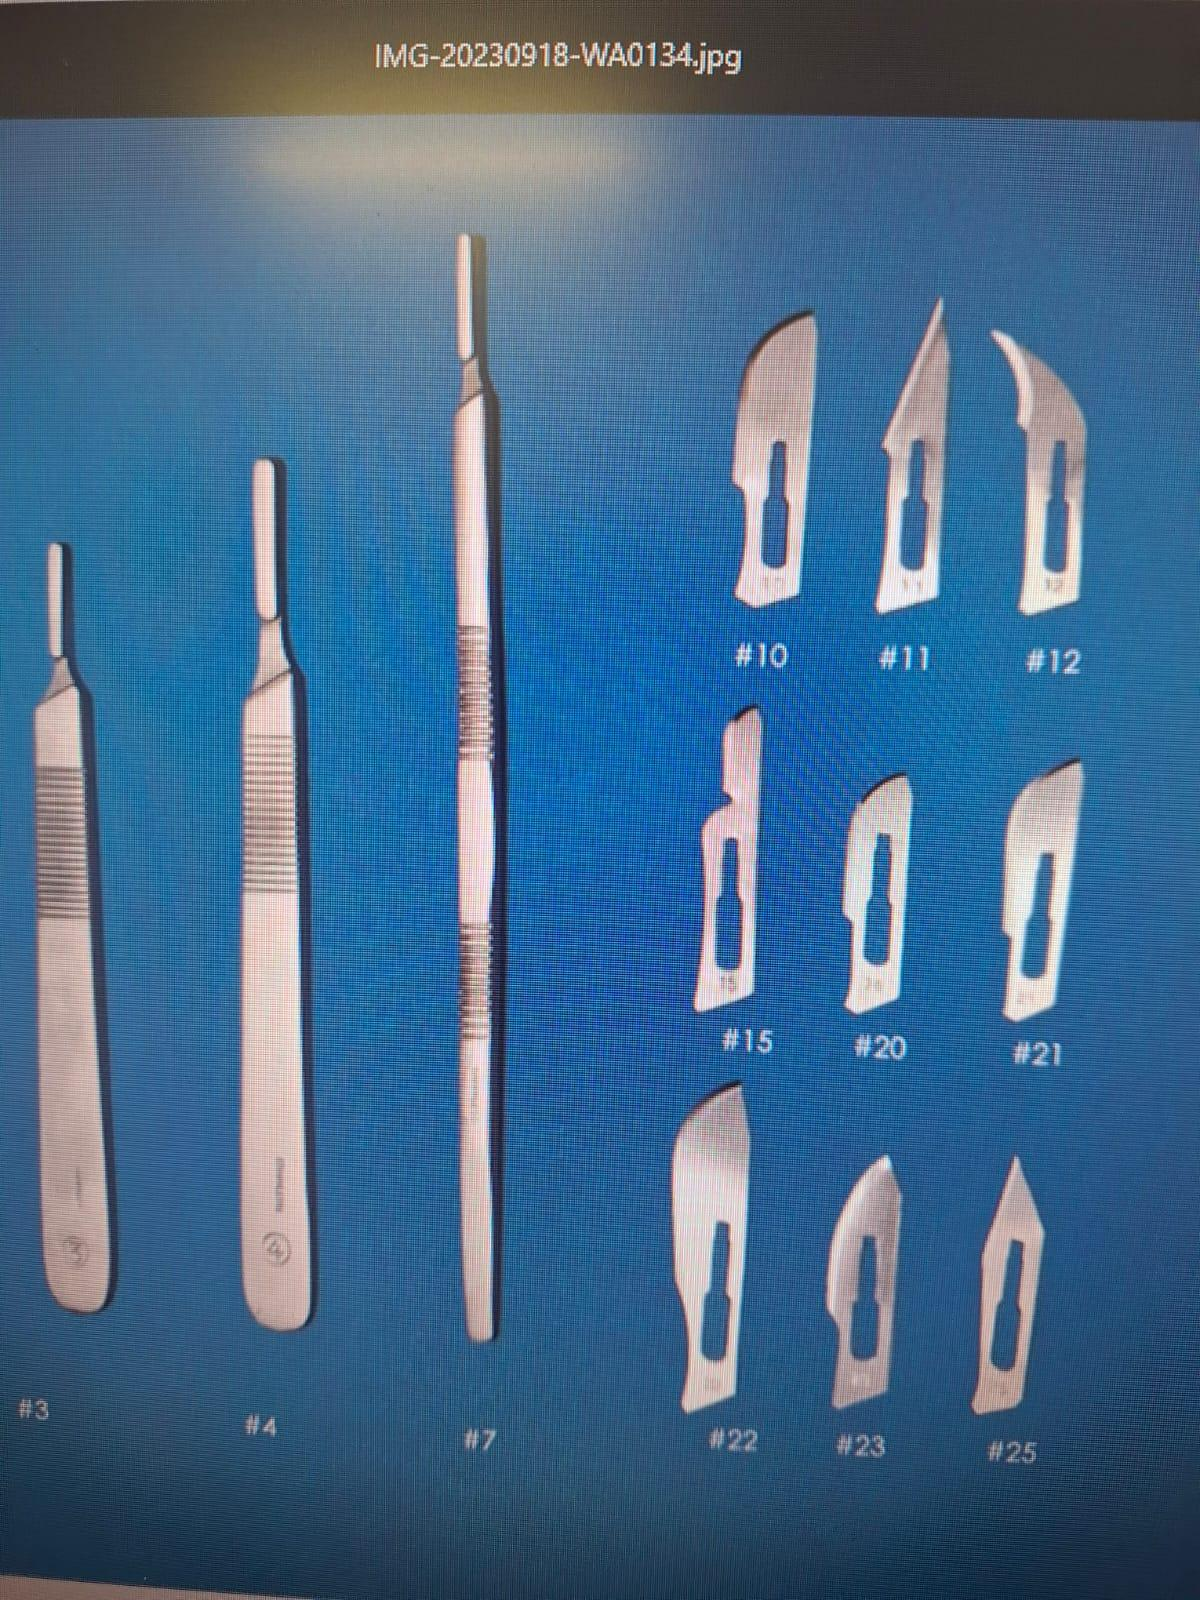Knife Blade: (687, 290, 845, 622), (979, 317, 1139, 625), (658, 1080, 780, 1427), (989, 742, 1111, 1031), (875, 295, 982, 620), (945, 1145, 1070, 1417), (800, 1140, 915, 1415), (829, 747, 935, 1020)
Knife Handle: (213, 435, 355, 1353), (10, 515, 147, 1343)
